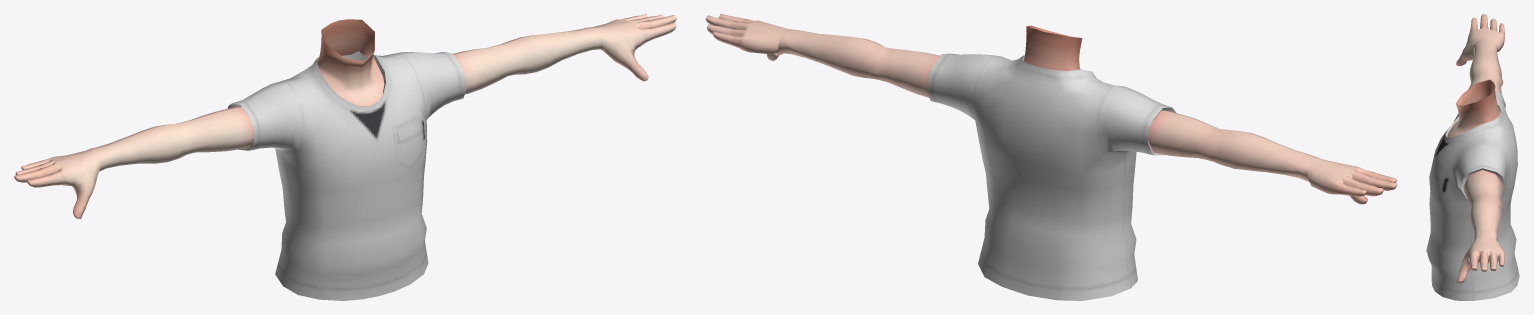
File: tr0780_00_upb01.gltf
3 renders of one model, left to right at view 1: azimuth 30°, elevation 25°; view 2: azimuth 150°, elevation 25°; view 3: azimuth 270°, elevation 25°, orthographic. The views are drawn at different scales.
Visible parts, largest first — view 1: upb01_upperbody_mesh_shape:upperbody01, upb01_upperskin_mesh_shape:upperbody01_skin; view 2: upb01_upperbody_mesh_shape:upperbody01, upb01_upperskin_mesh_shape:upperbody01_skin; view 3: upb01_upperbody_mesh_shape:upperbody01, upb01_upperskin_mesh_shape:upperbody01_skin.
Boxes of the visible parts, box(x1,y1,x2,y2) form: upb01_upperbody_mesh_shape:upperbody01: box(228, 51, 466, 300); upb01_upperskin_mesh_shape:upperbody01_skin: box(14, 14, 676, 218); upb01_upperbody_mesh_shape:upperbody01: box(926, 53, 1176, 300); upb01_upperskin_mesh_shape:upperbody01_skin: box(705, 14, 1397, 204); upb01_upperbody_mesh_shape:upperbody01: box(1426, 90, 1519, 300); upb01_upperskin_mesh_shape:upperbody01_skin: box(1447, 14, 1504, 283).
Size of what is drawn, in the model's own units: 1.63 by 0.5809 by 0.2528.
Materials: 2 (2 with a texture image).
